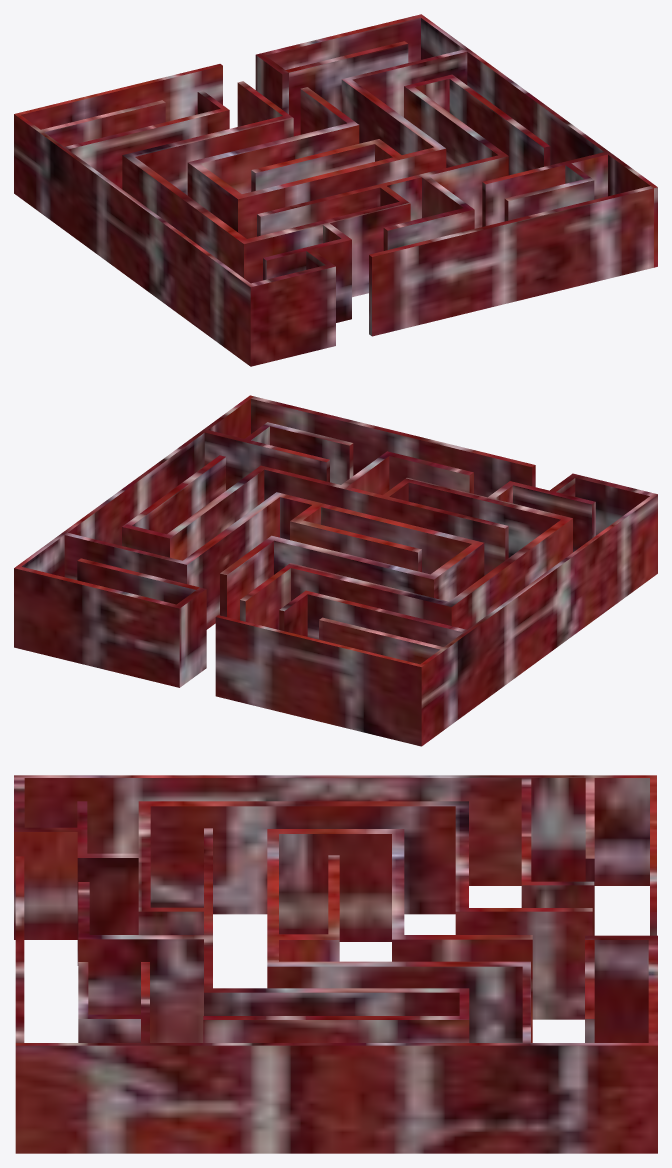
Rendered from Labirinto.fbx.
3 views of the same model, one above another, from view 1: azimuth 30°, elevation 25°; view 2: azimuth 150°, elevation 25°; view 3: azimuth 270°, elevation 25° (orthographic). The views are drawn at different scales.
Visible parts, largest first — view 1: Labirinto; view 2: Labirinto; view 3: Labirinto.
Part boxes in pixels (x1,y1,x2,y2): Labirinto: [14, 14, 657, 366]; Labirinto: [14, 395, 657, 746]; Labirinto: [14, 775, 657, 1153].
Size of the model in its own units: 8.71 by 1.62 by 8.77.
1 material, 1 textured.
